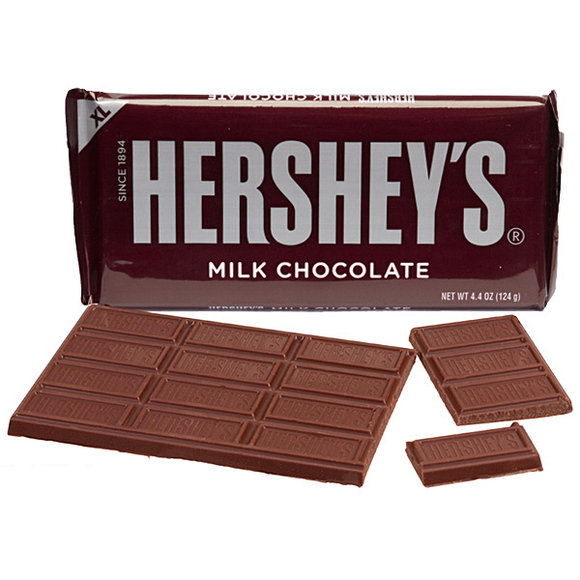hershey: (65, 90, 561, 311)
